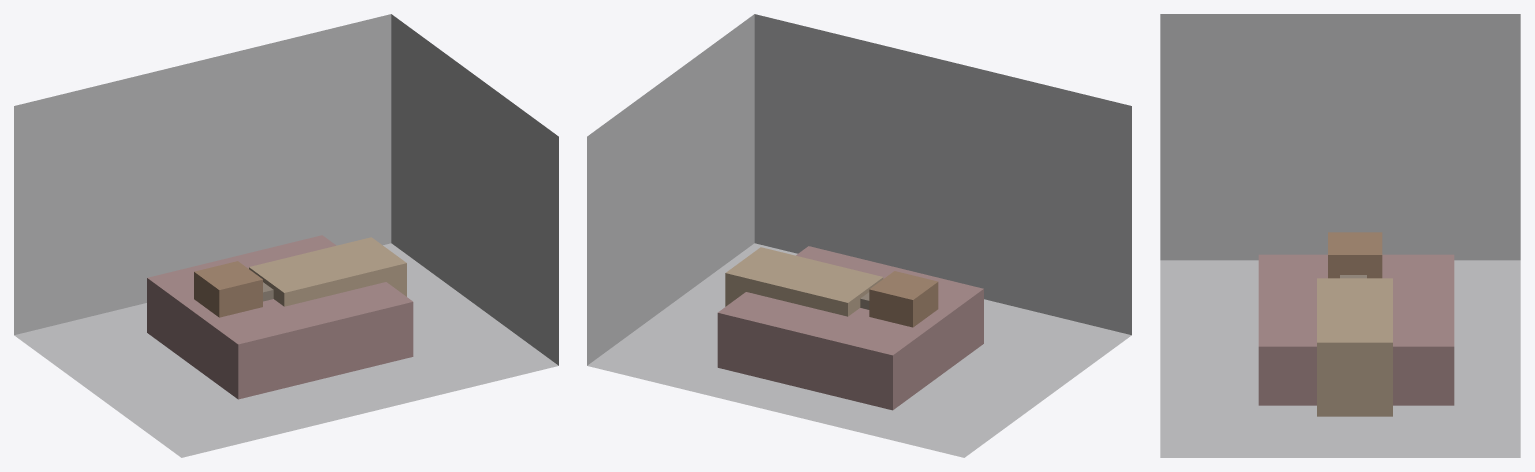
The model's file is optimised_layout.glb.
The picture shows the model from 3 angles, left to right: view 1: azimuth 30°, elevation 25°; view 2: azimuth 150°, elevation 25°; view 3: azimuth 270°, elevation 25°; orthographic projection. The views are drawn at different scales.
Parts seen in each view (by area): view 1: room, bed, desk, chair; view 2: room, bed, desk, chair; view 3: room, bed, desk, chair.
Part boxes in pixels (x1,y1,x2,y2): room: (14, 14, 558, 457); bed: (147, 235, 413, 399); desk: (249, 237, 406, 306); chair: (194, 261, 262, 317); room: (587, 14, 1131, 457); bed: (717, 246, 983, 410); desk: (725, 247, 883, 316); chair: (869, 271, 938, 327); room: (1160, 14, 1520, 457); bed: (1258, 254, 1454, 405); desk: (1317, 278, 1392, 416); chair: (1328, 232, 1382, 278).
Size of the model in its own units: 4.31 by 2.5 by 3.31.
